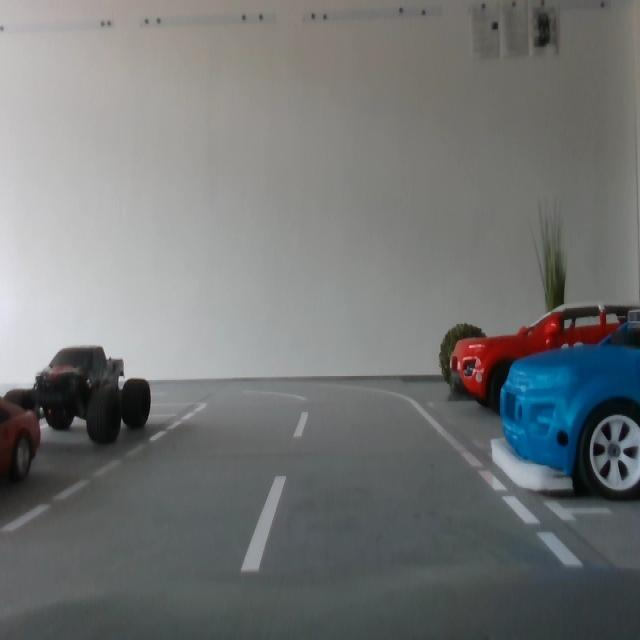car: (500, 320, 640, 501), (449, 304, 640, 414), (34, 345, 155, 446), (1, 396, 41, 484)
potted plant: (530, 198, 570, 362), (439, 322, 491, 393)
